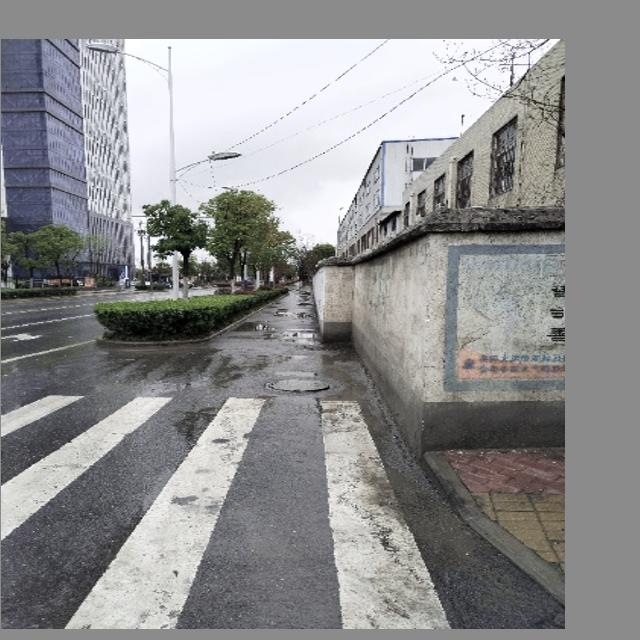good: (248, 368, 342, 398)
